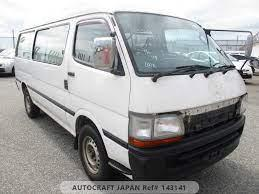van: (12, 10, 250, 175)
